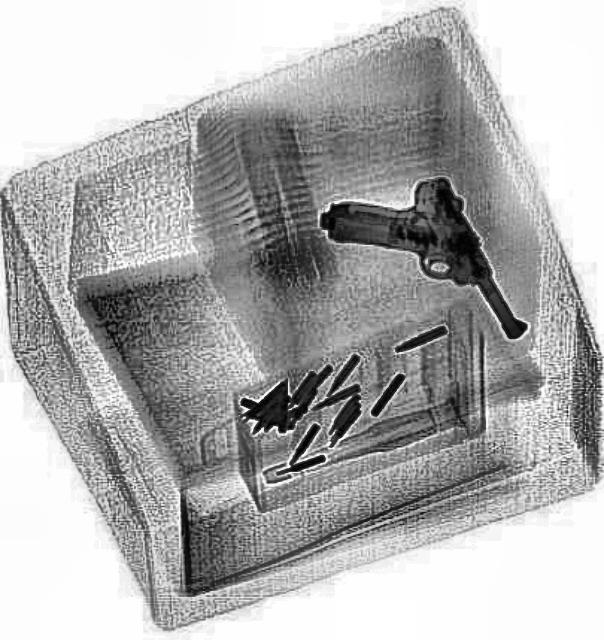Gun: (313, 150, 529, 388)
